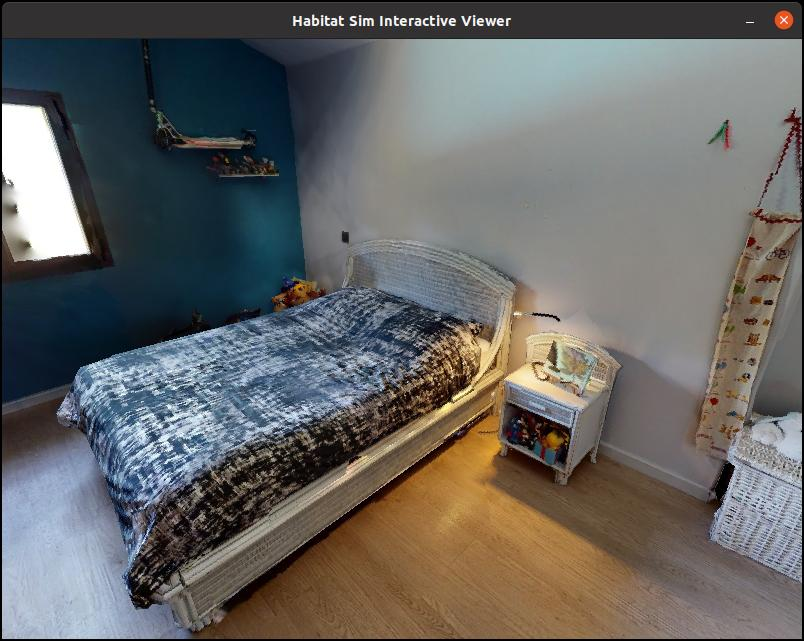bed: (68, 215, 553, 629)
